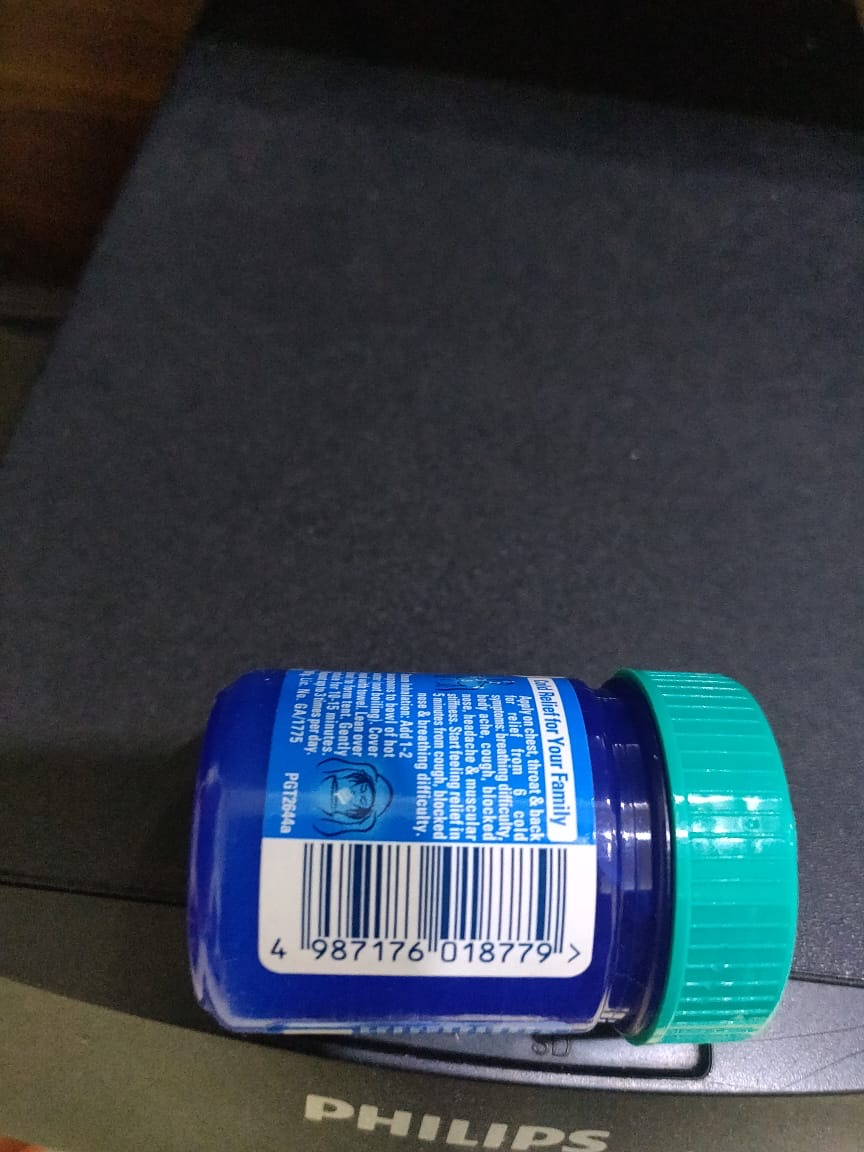barcode: (260, 840, 584, 974)
